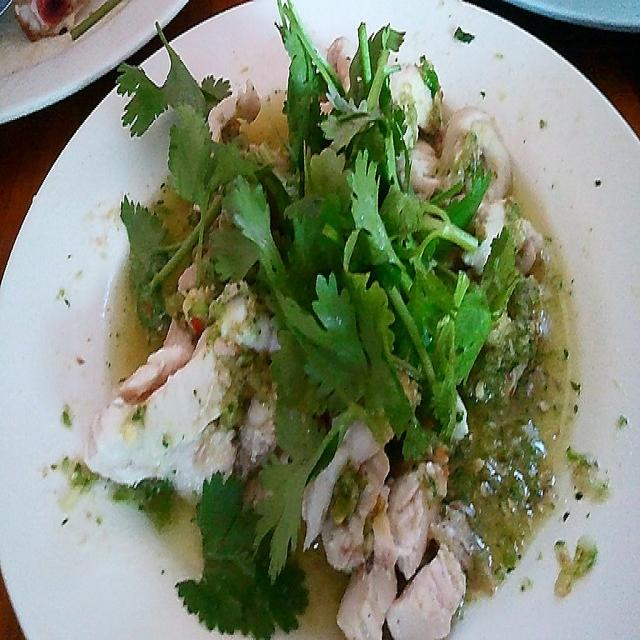猪肉菜式: (4, 15, 616, 633)
